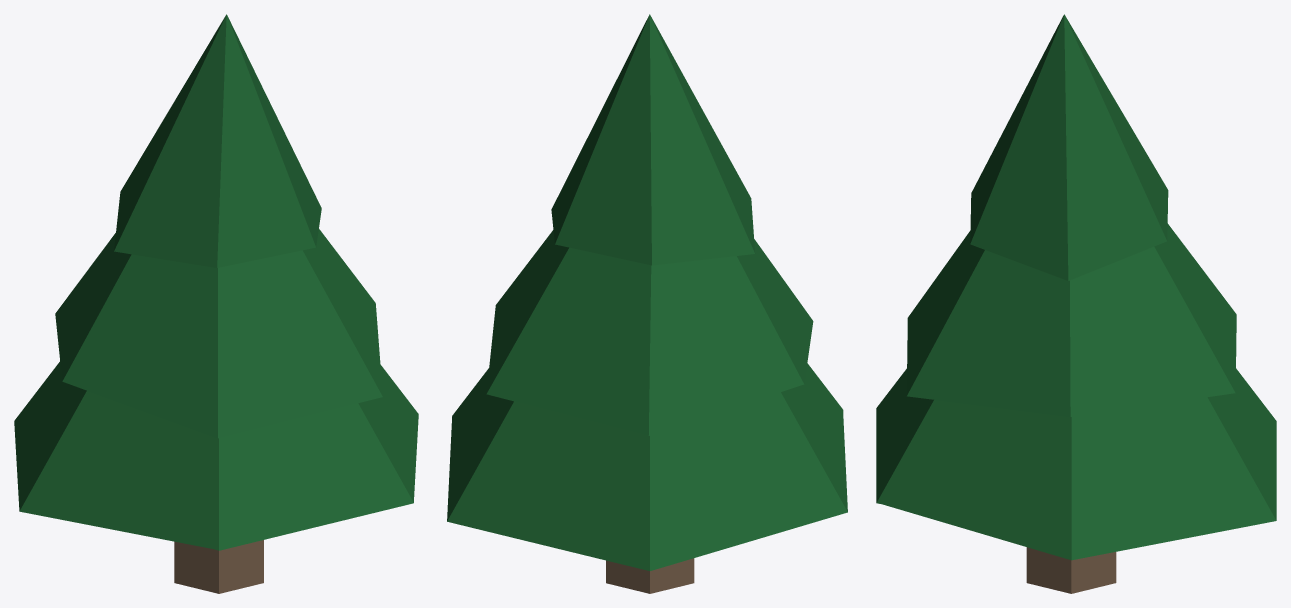
The model's file is Tree3.fbx.
The picture shows the model from 3 angles, left to right: view 1: azimuth 30°, elevation 25°; view 2: azimuth 150°, elevation 25°; view 3: azimuth 270°, elevation 25°; orthographic projection.
Parts seen in each view (by area): view 1: Prop_Tree_Pine_3_10; view 2: Prop_Tree_Pine_3_10; view 3: Prop_Tree_Pine_3_10.
Boxes of the visible parts, bbox=[...] form: Prop_Tree_Pine_3_10: bbox=[14, 14, 418, 593]; Prop_Tree_Pine_3_10: bbox=[447, 14, 847, 593]; Prop_Tree_Pine_3_10: bbox=[876, 14, 1276, 593].
Size of the model in its own units: 24.89 by 33.35 by 21.59.
